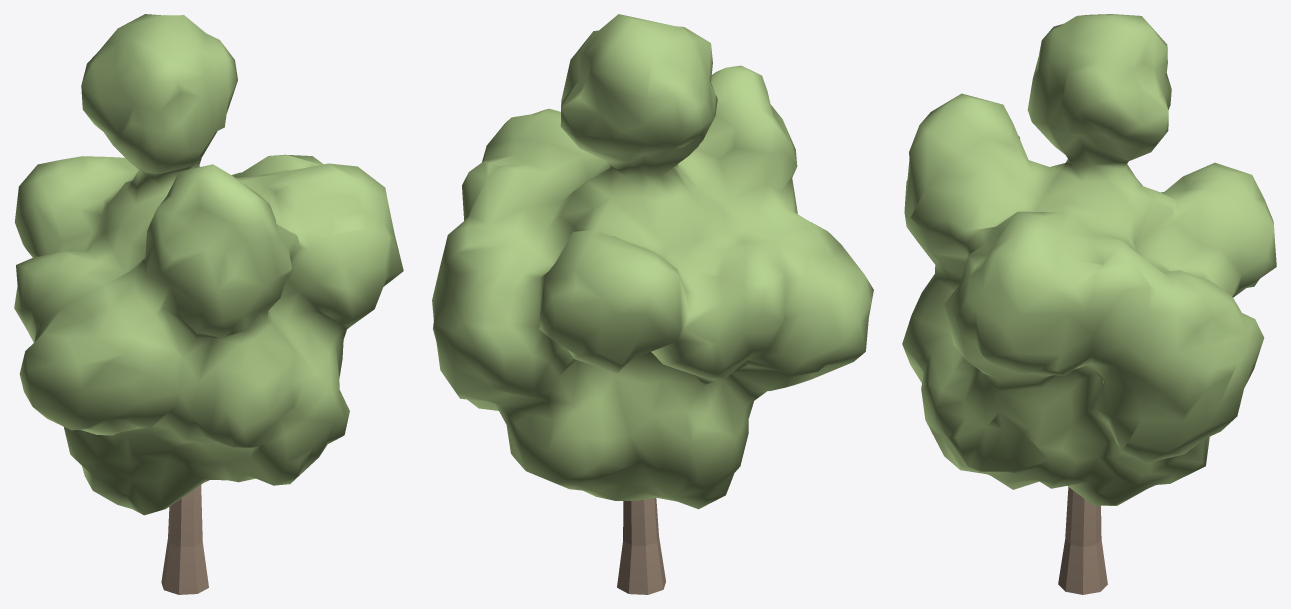
Rendered from tree_lime.glb.
The picture shows the model from 3 angles, left to right: view 1: azimuth 30°, elevation 25°; view 2: azimuth 150°, elevation 25°; view 3: azimuth 270°, elevation 25°; orthographic projection. The views are drawn at different scales.
Parts seen in each view (by area): view 1: tree_lime; view 2: tree_lime; view 3: tree_lime.
Part boxes in pixels (box(x1,y1,x2,y2)): tree_lime: box(14, 14, 403, 594); tree_lime: box(432, 14, 873, 594); tree_lime: box(902, 14, 1276, 594).
Bounding box in the file's own units: 7.28 × 10.8 × 6.49.
